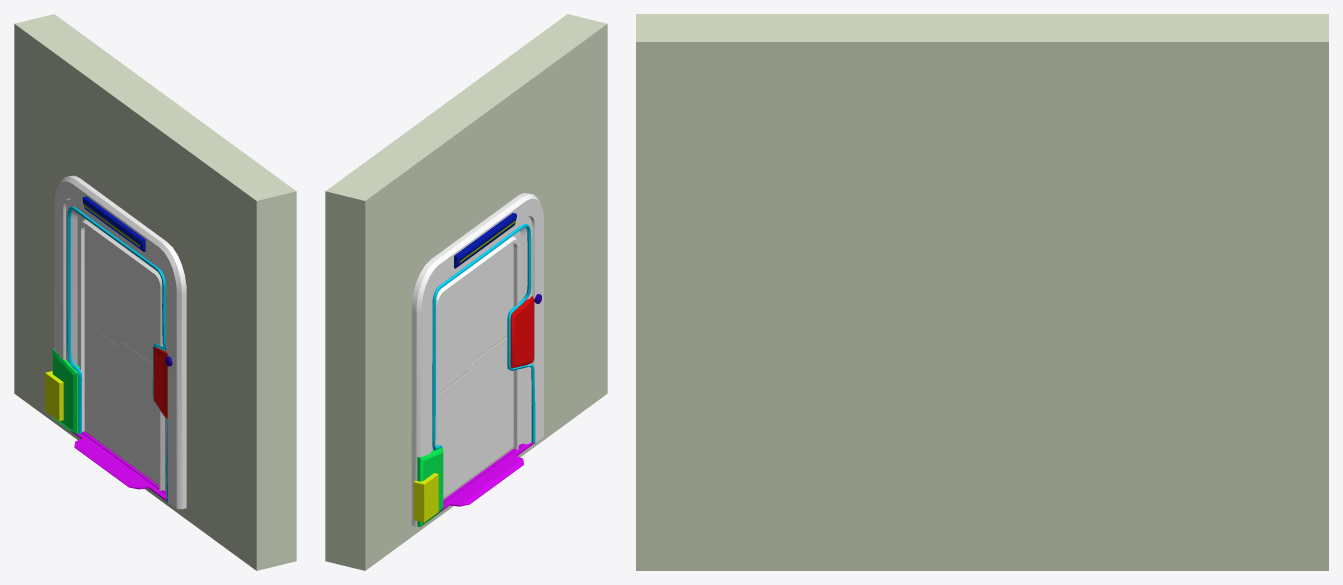
File: WALL BACK.fbx
3 renders of one model, left to right at view 1: azimuth 30°, elevation 25°; view 2: azimuth 150°, elevation 25°; view 3: azimuth 270°, elevation 25°, orthographic. The views are drawn at different scales.
Parts seen in each view (by area): view 1: WALL BACK, Door 1_Lo; view 2: WALL BACK, Door 1_Lo; view 3: WALL BACK.
Boxes of the visible parts, left/top/right/bottom form: WALL BACK: left=14, top=14, right=296, bottom=570; Door 1_Lo: left=45, top=175, right=186, bottom=509; WALL BACK: left=325, top=14, right=607, bottom=570; Door 1_Lo: left=411, top=193, right=543, bottom=526; WALL BACK: left=636, top=14, right=1328, bottom=570.
Bounding box in the file's own units: 0.6953 × 3.96 × 4.7.
